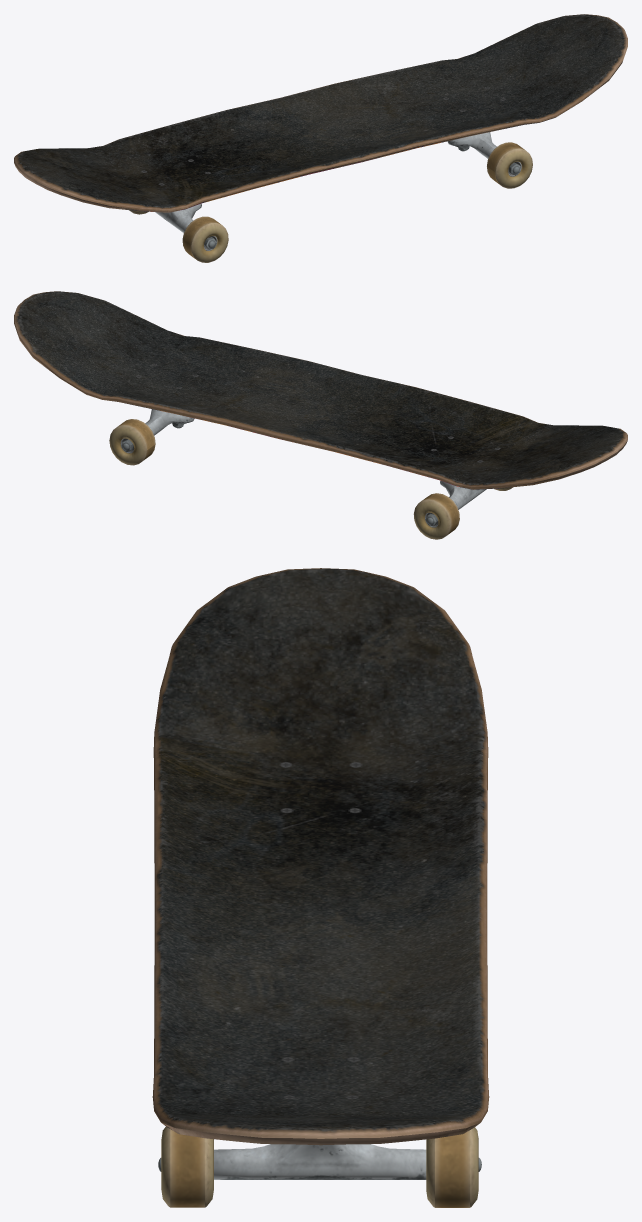
The model's file is skateboard_f990c2ae.glb.
3 views of the same model, one above another, from view 1: azimuth 30°, elevation 25°; view 2: azimuth 150°, elevation 25°; view 3: azimuth 270°, elevation 25° (orthographic). The views are drawn at different scales.
Parts seen in each view (by area): view 1: deck_low_skatie_0_2, wheel_2_low_skatie_0_37, wheel_2_low_skatie_0.001_44, trucks_hanger_2_low_skatie_0_21, trucks_hanger_1_low_skatie_0_8; view 2: deck_low_skatie_0_2, wheel_2_low_skatie_0.002_38, wheel_2_low_skatie_0.003_45, trucks_hanger_2_low_skatie_0_21, trucks_hanger_1_low_skatie_0_8; view 3: deck_low_skatie_0_2, trucks_hanger_2_low_skatie_0_21, wheel_2_low_skatie_0.001_44, wheel_2_low_skatie_0.003_45.
Boxes of the visible parts, x1,y1,x2,y2 form: deck_low_skatie_0_2: [14, 14, 627, 212]; wheel_2_low_skatie_0_37: [182, 216, 228, 262]; wheel_2_low_skatie_0.001_44: [487, 142, 532, 188]; trucks_hanger_2_low_skatie_0_21: [447, 132, 496, 158]; trucks_hanger_1_low_skatie_0_8: [155, 203, 201, 232]; deck_low_skatie_0_2: [14, 291, 627, 489]; wheel_2_low_skatie_0.002_38: [413, 493, 459, 539]; wheel_2_low_skatie_0.003_45: [109, 419, 155, 465]; trucks_hanger_2_low_skatie_0_21: [145, 409, 194, 435]; trucks_hanger_1_low_skatie_0_8: [440, 480, 486, 509]; deck_low_skatie_0_2: [152, 568, 489, 1145]; trucks_hanger_2_low_skatie_0_21: [214, 1144, 426, 1179]; wheel_2_low_skatie_0.001_44: [161, 1127, 213, 1207]; wheel_2_low_skatie_0.003_45: [426, 1127, 478, 1207].
Bounding box in the file's own units: 80.85 × 13.6 × 19.84.
Materials: 1 (1 with a texture image).
